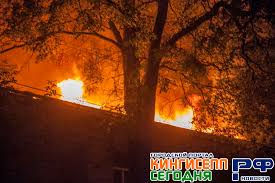fire: (149, 93, 223, 141), (48, 71, 112, 119)
